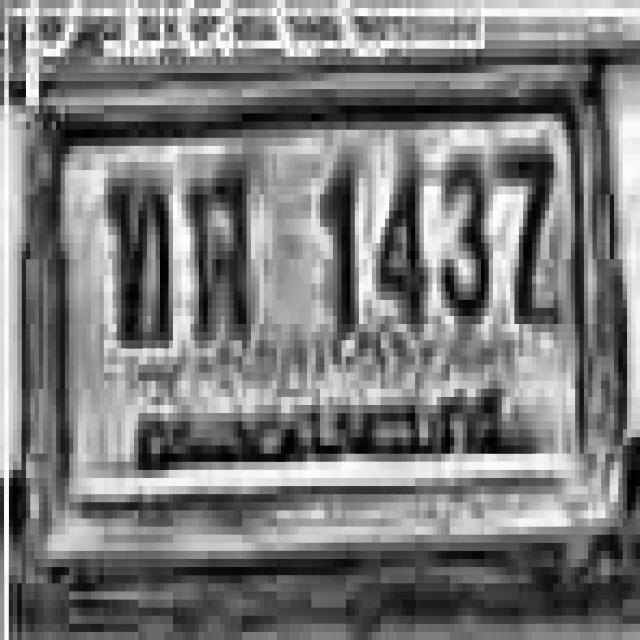license-plate: (24, 71, 622, 544)
